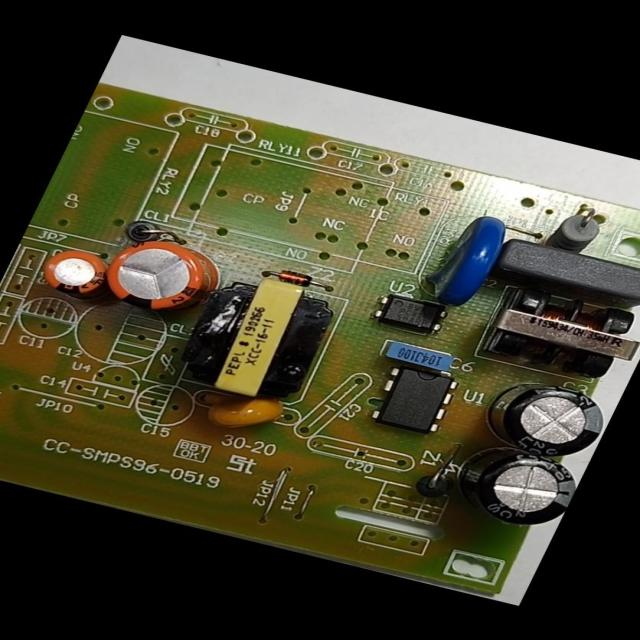Cap1: (89, 226, 234, 326)
Cap2: (28, 240, 118, 305)
Cap3: (465, 367, 621, 469)
Cap4: (435, 434, 588, 538)
MOSFET: (360, 356, 469, 441)
Mov: (412, 206, 527, 316)
Resistor: (541, 194, 623, 258)
Transformer: (170, 264, 350, 411), (473, 280, 639, 394)
